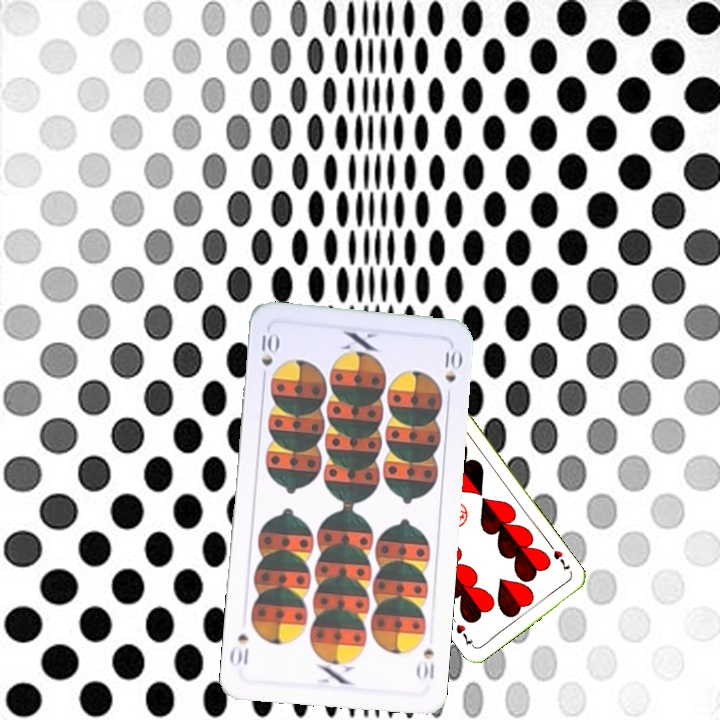H7: (549, 546, 573, 573)
S10: (413, 644, 437, 686), (257, 330, 280, 369)
